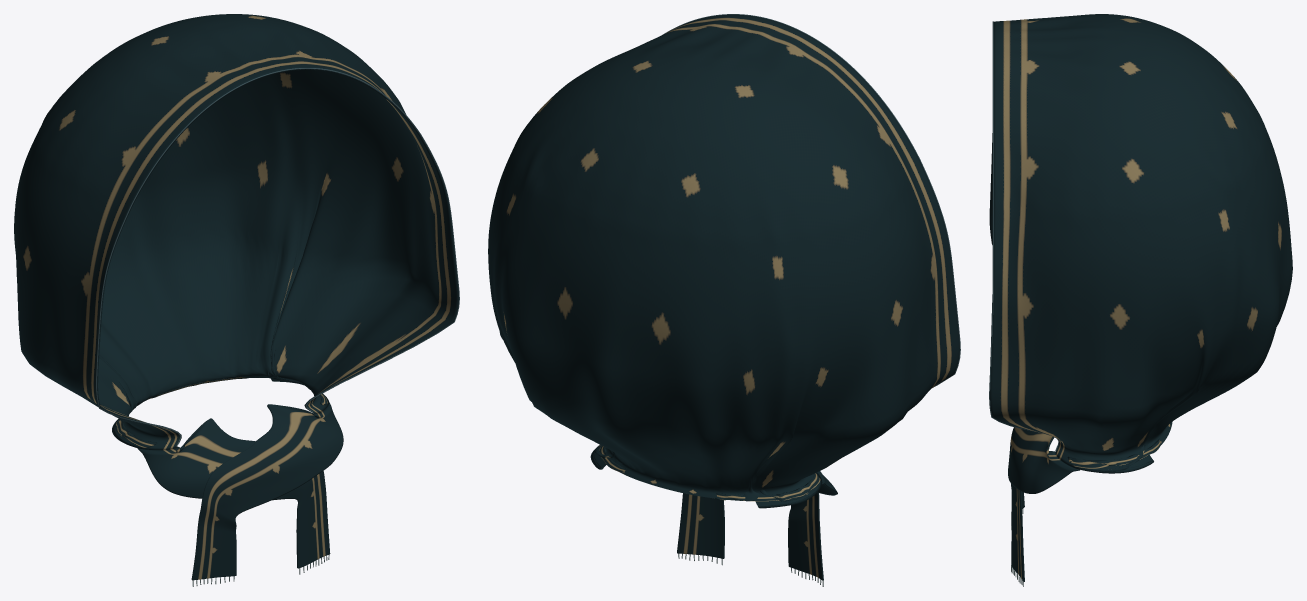
File: Masculine-tshirt-pashmina236-headgear.glb
3 renders of one model, left to right at view 1: azimuth 30°, elevation 25°; view 2: azimuth 150°, elevation 25°; view 3: azimuth 270°, elevation 25°, orthographic. The views are drawn at different scales.
Parts seen in each view (by area): view 1: 226 headgear / Headwear / continuous woven pashmina236, 226 headgear / Headwear / face edge236; view 2: 226 headgear / Headwear / continuous woven pashmina236, 226 headgear / Headwear / face edge236; view 3: 226 headgear / Headwear / continuous woven pashmina236, 226 headgear / Headwear / face edge236.
Boxes of the visible parts, x1=… form: 226 headgear / Headwear / continuous woven pashmina236: x1=14, y1=14, x2=458, y2=580; 226 headgear / Headwear / face edge236: x1=96, y1=68, x2=459, y2=445; 226 headgear / Headwear / continuous woven pashmina236: x1=488, y1=14, x2=959, y2=580; 226 headgear / Headwear / face edge236: x1=663, y1=14, x2=960, y2=387; 226 headgear / Headwear / continuous woven pashmina236: x1=989, y1=14, x2=1292, y2=581; 226 headgear / Headwear / face edge236: x1=989, y1=21, x2=1058, y2=450.
Bounding box in the file's own units: 1.03 × 1.35 × 0.7127.
3 materials, 1 textured.
